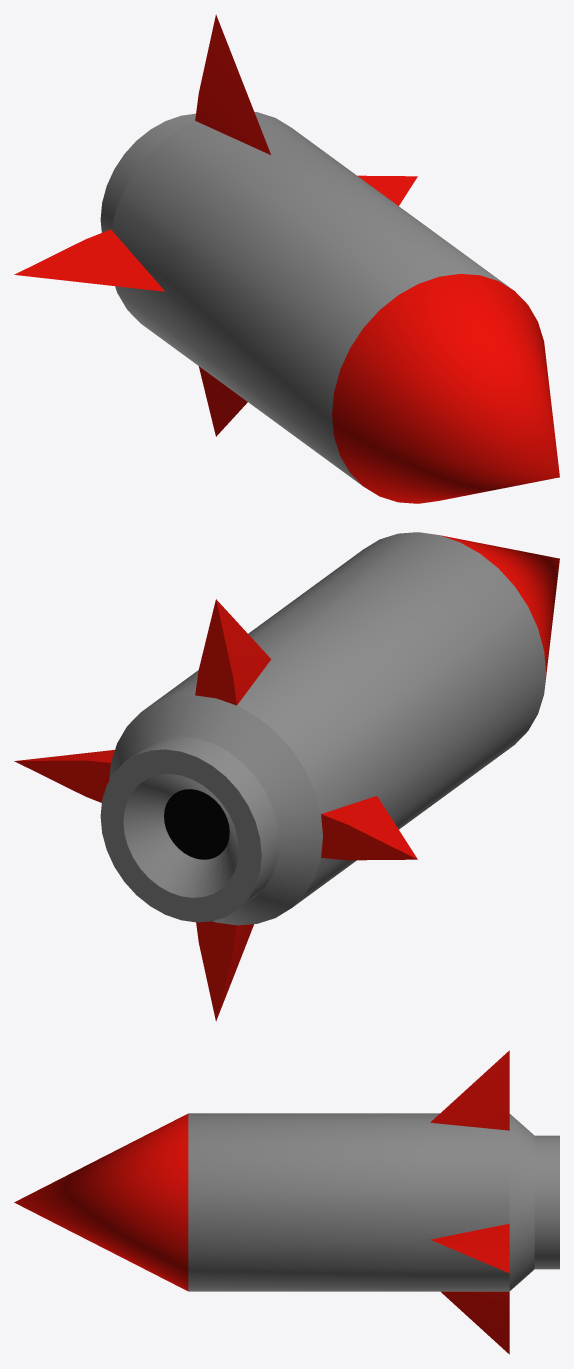
Rendered from Missile.fbx.
3 views of the same model, one above another, from view 1: azimuth 30°, elevation 25°; view 2: azimuth 150°, elevation 25°; view 3: azimuth 270°, elevation 25° (orthographic). The views are drawn at different scales.
Visible parts, largest first — view 1: Missile; view 2: Missile; view 3: Missile.
Part boxes in pixels (bbox=[...]): Missile: bbox=[14, 14, 559, 503]; Missile: bbox=[14, 532, 559, 1021]; Missile: bbox=[14, 1050, 559, 1354].
Bounding box in the file's own units: 47.17 × 47.17 × 76.59.
